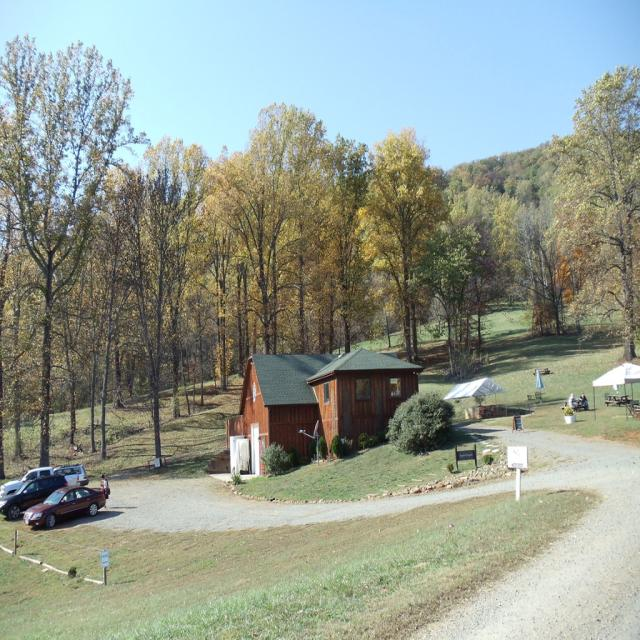car: (22, 482, 110, 526)
